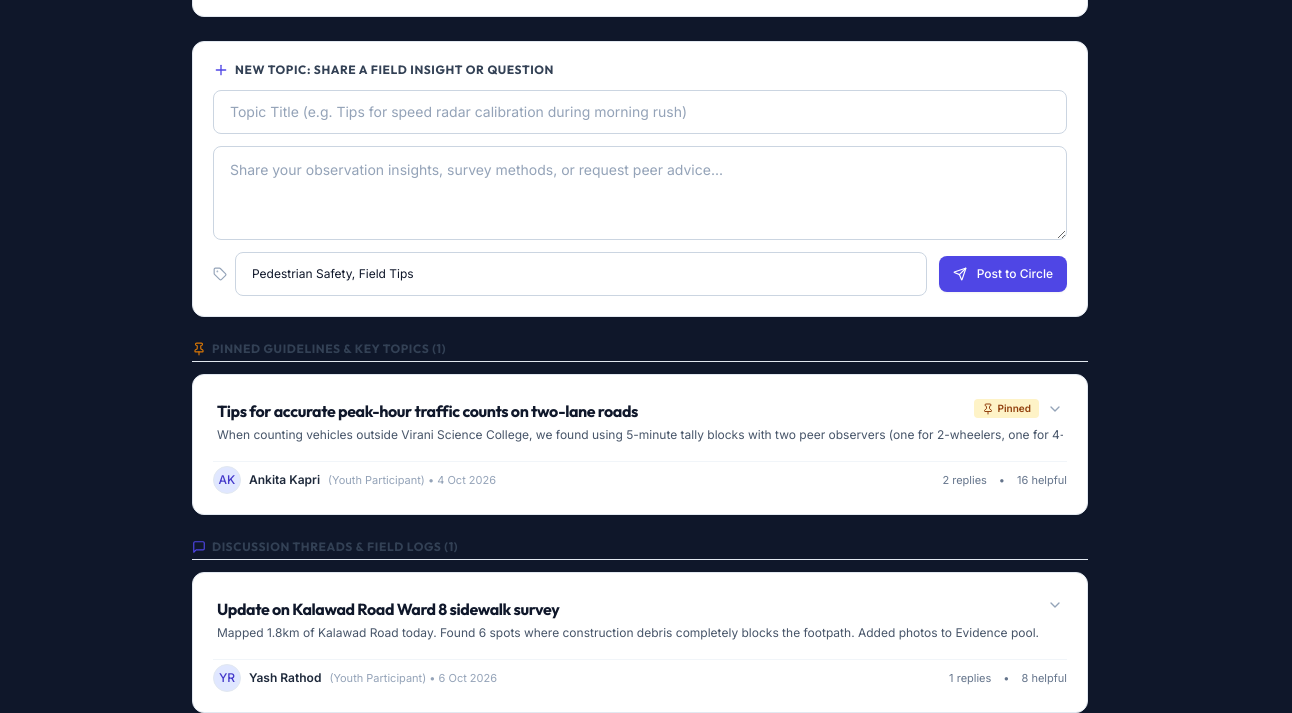
Test case: Community Post Reporting UI Tests › offers a Report control on a post card for another author that is reachable by keyboard
(page scrolled)
Check: the heading "Update on Kalawad Road Ward 8 sidewalk survey" is shown, box left=217, top=597, right=560, bottom=621
Click the button "Update on Kalawad Road Ward 8 sidewalk survey" at coordinates (388, 609), box left=213, top=593, right=1067, bottom=645
(page scrolled)
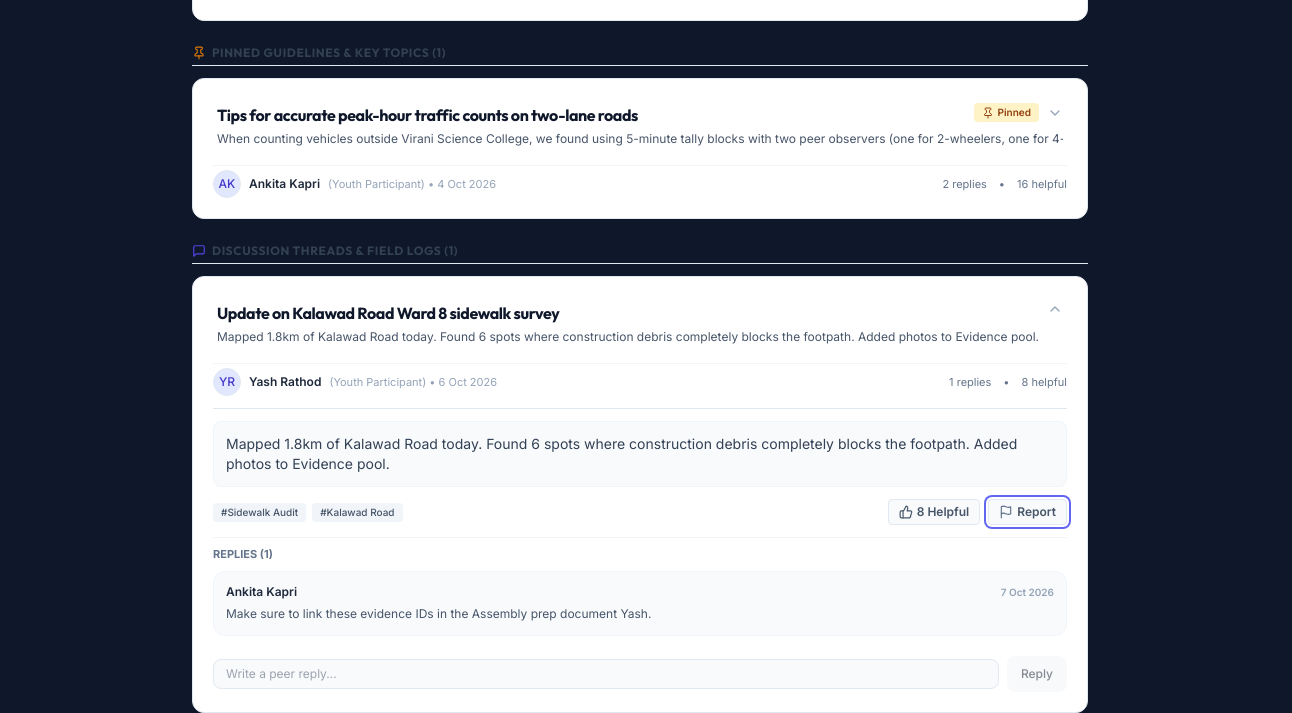
Check: the button named "Report post: Update on Kalawad Road Ward 8 sidewalk survey" is shown, box left=988, top=499, right=1067, bottom=525
